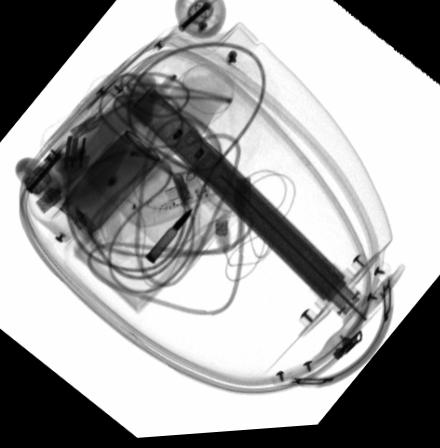Bullet: (144, 211, 192, 267)
